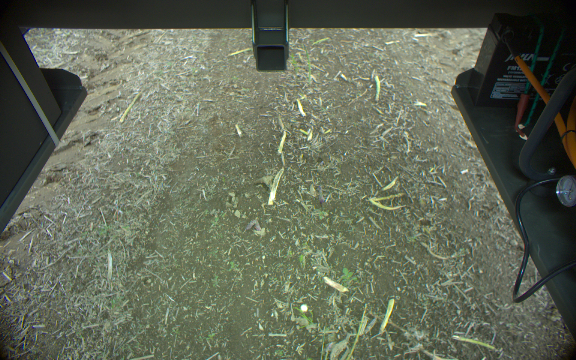aspa: (244, 216, 261, 235), (316, 182, 324, 202)
